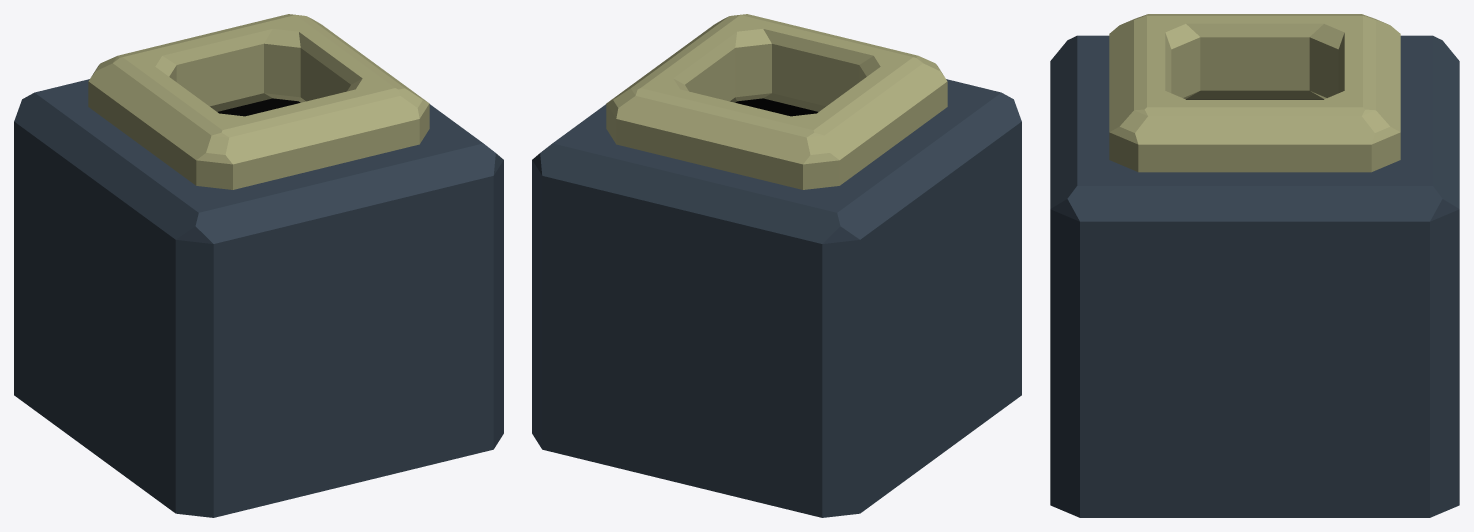
Rendered from bin.fbx.
3 renders of one model, left to right at view 1: azimuth 30°, elevation 25°; view 2: azimuth 150°, elevation 25°; view 3: azimuth 270°, elevation 25°, orthographic. The views are drawn at different scales.
Visible parts, largest first — view 1: Cube; view 2: Cube; view 3: Cube.
Part boxes in pixels (x1,y1,x2,y2): Cube: (14, 14, 503, 517); Cube: (532, 14, 1021, 517); Cube: (1050, 14, 1459, 517).
Bounding box in the file's own units: 200 × 199 × 200.
